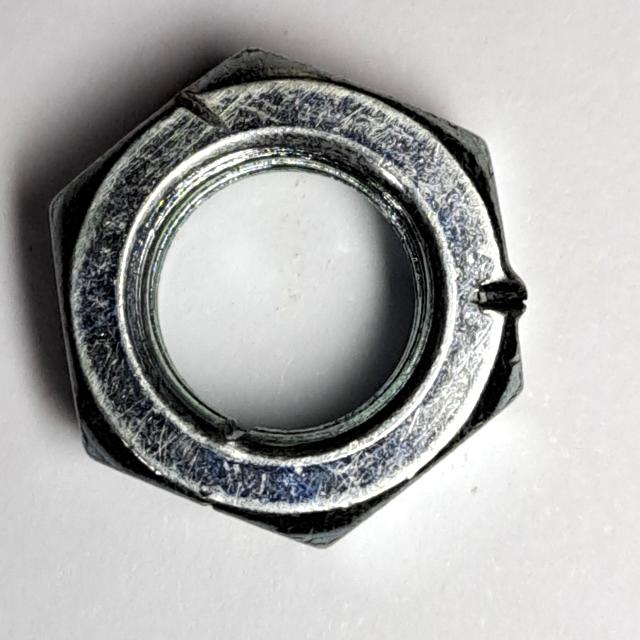Scratches: (36, 34, 555, 572)
